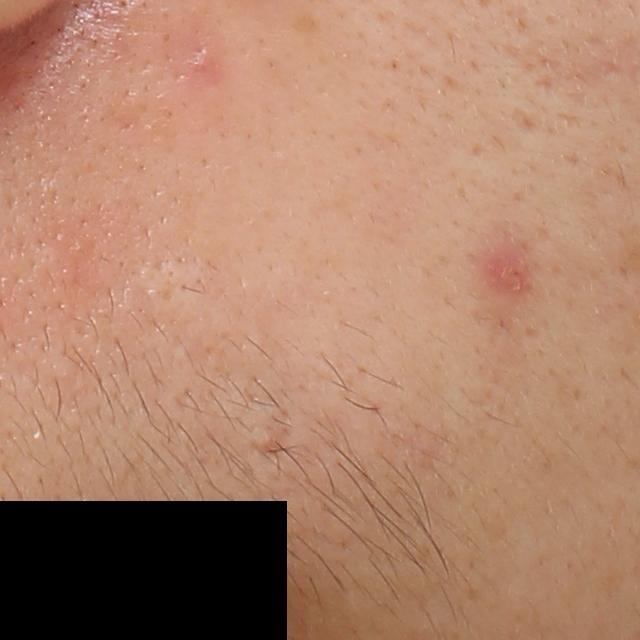papule: (486, 249, 528, 293)
